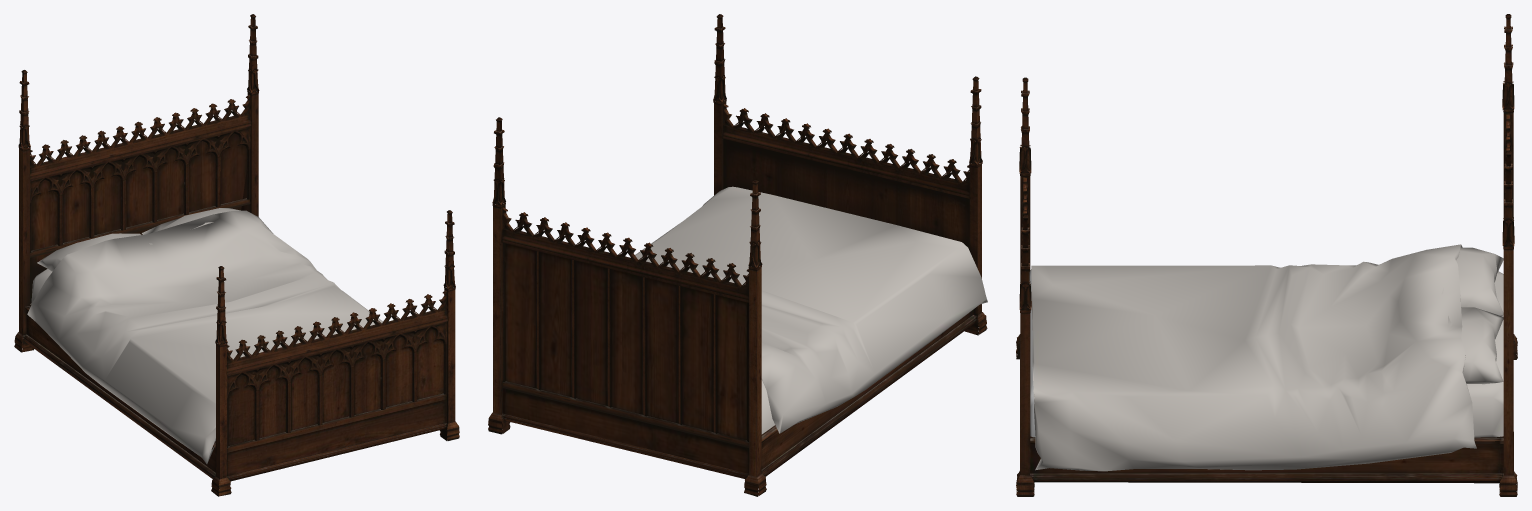
The model's file is GothicBed_01.glb.
3 renders of one model, left to right at view 1: azimuth 30°, elevation 25°; view 2: azimuth 150°, elevation 25°; view 3: azimuth 270°, elevation 25°, orthographic. The views are drawn at different scales.
Parts seen in each view (by area): view 1: GothicBed_01; view 2: GothicBed_01; view 3: GothicBed_01.
Boxes of the visible parts, x1=… form: GothicBed_01: x1=14, y1=14, x2=459, y2=496; GothicBed_01: x1=488, y1=14, x2=987, y2=496; GothicBed_01: x1=1016, y1=14, x2=1517, y2=496.
Size of the model in its own units: 1.49 by 1.53 by 2.04.
Materials: 1 (1 with a texture image).
